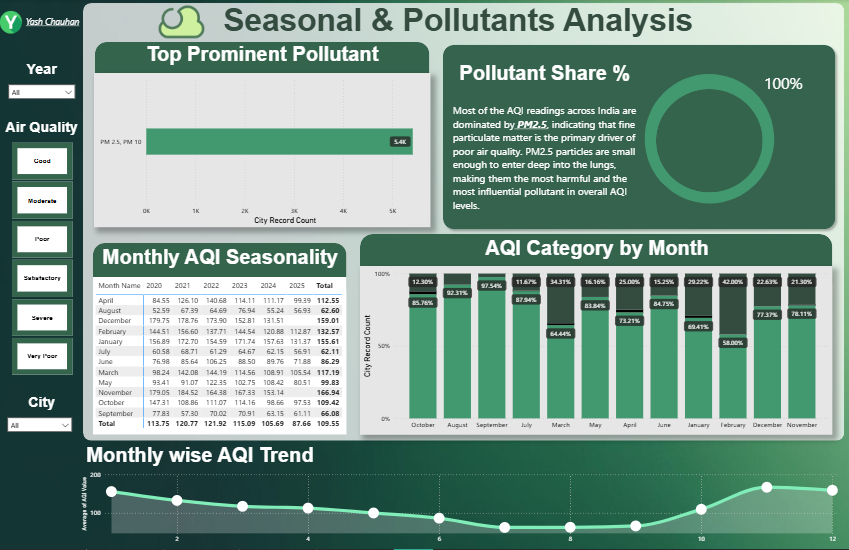

This screenshot's page, from the dashboard's own definition file:
{"tool":"powerbi","page":{"name":"Page 4","canvas":[1580,1020],"ordinal":3},"visuals":[{"type":"shape","box":[158,8,1412,812],"z":0},{"type":"image","box":[2.3,17.8,44.4,48.9],"z":0,"group":"g3"},{"type":"textbox","box":[46.7,25.6,147.8,32.2],"z":1000,"group":"g3"},{"type":"slicer","fields":{"Values":["AQI_2020_to_2025_October_clean (2).Date.Variation.Date Hierarchy.Year"]},"box":[8.9,148.9,144.4,42.2],"z":1000},{"type":"slicer","fields":{"Values":["AQI_2020_to_2025_October_clean (2).City"]},"box":[7.8,766.7,140,50],"z":2000},{"type":"slicer","fields":{"Values":["AQI_2020_to_2025_October_clean (2).Air Quality"]},"box":[0,260,162.2,444.4],"z":3000},{"type":"textbox","box":[169.9,0,1292.3,94.8],"z":4000},{"type":"textbox","box":[0,108.9,162.2,48.9],"z":5000},{"type":"shape","box":[816,76,746,360],"z":6000},{"type":"shape","box":[176,452,470,88],"z":7000},{"type":"textbox","box":[0,217.8,162.2,48.9],"z":8000},{"type":"textbox","box":[0,727.8,162.2,48.9],"z":9000},{"type":"areaChart","fields":{"Category":["AQI_2020_to_2025_October_clean (2).Month Number "],"Y":["Avg(AQI_2020_to_2025_October_clean (2).AQI Value)"]},"box":[148,868,1414,152],"z":10000},{"type":"group","id":"g1","title":"Group 2","box":[178,76,624,348],"z":11000},{"type":"group","id":"g2","title":"Group 3","box":[672,436,876,372],"z":12000},{"type":"textbox","box":[148,820,460,68],"z":13000},{"type":"shape","box":[180,80,620,88],"z":14000,"group":"g1"},{"type":"pivotTable","fields":{"Rows":["AQI_2020_to_2025_October_clean (2).Month Name"],"Columns":["AQI_2020_to_2025_October_clean (2).Date.Variation.Date Hierarchy.Year"],"Values":["Avg(AQI_2020_to_2025_October_clean (2).AQI Value)"]},"box":[176,516,470,292],"z":14000},{"type":"donutChart","fields":{"Category":["AQI_2020_to_2025_October_clean (2).Prominent Pollutant"],"Y":["AQI_2020_to_2025_October_clean (2).City Record Count"]},"box":[1092,88,454,344],"z":15000},{"type":"shape","box":[672,436,876,92.6],"z":15000,"group":"g2"},{"type":"shape","box":[1220,166,198,192],"z":16000},{"type":"clusteredBarChart","fields":{"Category":["AQI_2020_to_2025_October_clean (2).Prominent Pollutant"],"Y":["AQI_2020_to_2025_October_clean (2).City Record Count"]},"box":[178,138,624,286],"z":17000,"group":"g1"},{"type":"textbox","box":[100,452,624,58],"z":17000},{"type":"textbox","box":[838,112,352,78],"z":18000},{"type":"hundredPercentStackedColumnChart","fields":{"Category":["AQI_2020_to_2025_October_clean (2).Month Name"],"Y":["AQI_2020_to_2025_October_clean (2).City Record Count"],"Series":["AQI_2020_to_2025_October_clean (2).Air Quality"]},"box":[672,495.4,876,312.6],"z":18000,"group":"g2"},{"type":"textbox","box":[838,190,352,224],"z":19000},{"type":"group","id":"g3","title":"Group 1","box":[2.3,17.8,192.2,48.9],"z":19001},{"type":"textbox","box":[178,76,624,58],"z":28000,"group":"g1"},{"type":"textbox","box":[676.3,436,871.7,61.1],"z":29000,"group":"g2"}]}

Visuals, with their boxes in screenshot pixels (x1, y1, x2, y2), scaled from the page's 1580x1020 canvas onto the 849x550 screenshot:
shape: x1=85 y1=4 x2=844 y2=442
image: x1=1 y1=10 x2=25 y2=36
textbox: x1=25 y1=14 x2=105 y2=31
slicer - AQI_2020_to_2025_October_clean (2).Date.Variation.Date Hierarchy.Year: x1=5 y1=80 x2=82 y2=103
slicer - AQI_2020_to_2025_October_clean (2).City: x1=4 y1=413 x2=79 y2=440
slicer - AQI_2020_to_2025_October_clean (2).Air Quality: x1=0 y1=140 x2=87 y2=380
textbox: x1=91 y1=0 x2=786 y2=51
textbox: x1=0 y1=59 x2=87 y2=85
shape: x1=438 y1=41 x2=839 y2=235
shape: x1=95 y1=244 x2=347 y2=291
textbox: x1=0 y1=117 x2=87 y2=144
textbox: x1=0 y1=392 x2=87 y2=419
areaChart - AQI_2020_to_2025_October_clean (2).Month Number  x Avg(AQI_2020_to_2025_October_clean (2).AQI Value): x1=80 y1=468 x2=839 y2=549
"Group 2" group: x1=96 y1=41 x2=431 y2=229
"Group 3" group: x1=361 y1=235 x2=832 y2=436
textbox: x1=80 y1=442 x2=327 y2=479
shape: x1=97 y1=43 x2=430 y2=91
pivotTable - AQI_2020_to_2025_October_clean (2).Month Name x AQI_2020_to_2025_October_clean (2).Date.Variation.Date Hierarchy.Year: x1=95 y1=278 x2=347 y2=436
donutChart - AQI_2020_to_2025_October_clean (2).Prominent Pollutant x AQI_2020_to_2025_October_clean (2).City Record Count: x1=587 y1=47 x2=831 y2=233
shape: x1=361 y1=235 x2=832 y2=285
shape: x1=656 y1=90 x2=762 y2=193
clusteredBarChart - AQI_2020_to_2025_October_clean (2).Prominent Pollutant x AQI_2020_to_2025_October_clean (2).City Record Count: x1=96 y1=74 x2=431 y2=229
textbox: x1=54 y1=244 x2=389 y2=275
textbox: x1=450 y1=60 x2=639 y2=102
hundredPercentStackedColumnChart - AQI_2020_to_2025_October_clean (2).Month Name x AQI_2020_to_2025_October_clean (2).City Record Count: x1=361 y1=267 x2=832 y2=436
textbox: x1=450 y1=102 x2=639 y2=223
"Group 1" group: x1=1 y1=10 x2=105 y2=36
textbox: x1=96 y1=41 x2=431 y2=72
textbox: x1=363 y1=235 x2=832 y2=268
